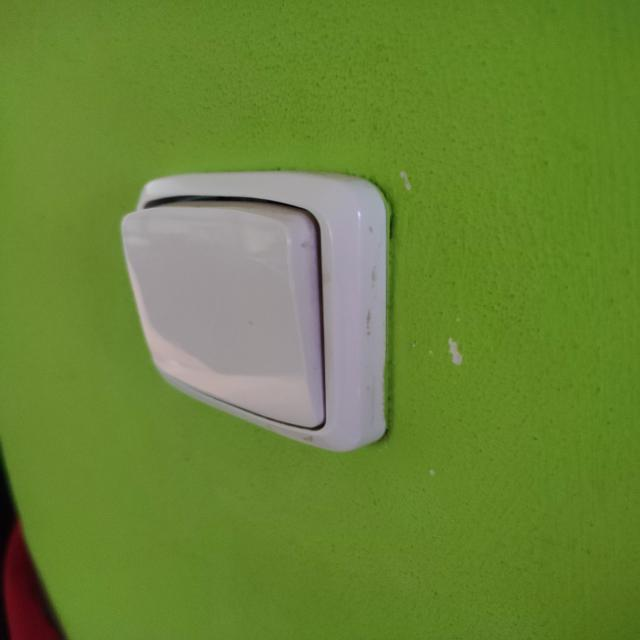house switch: (121, 170, 388, 452)
